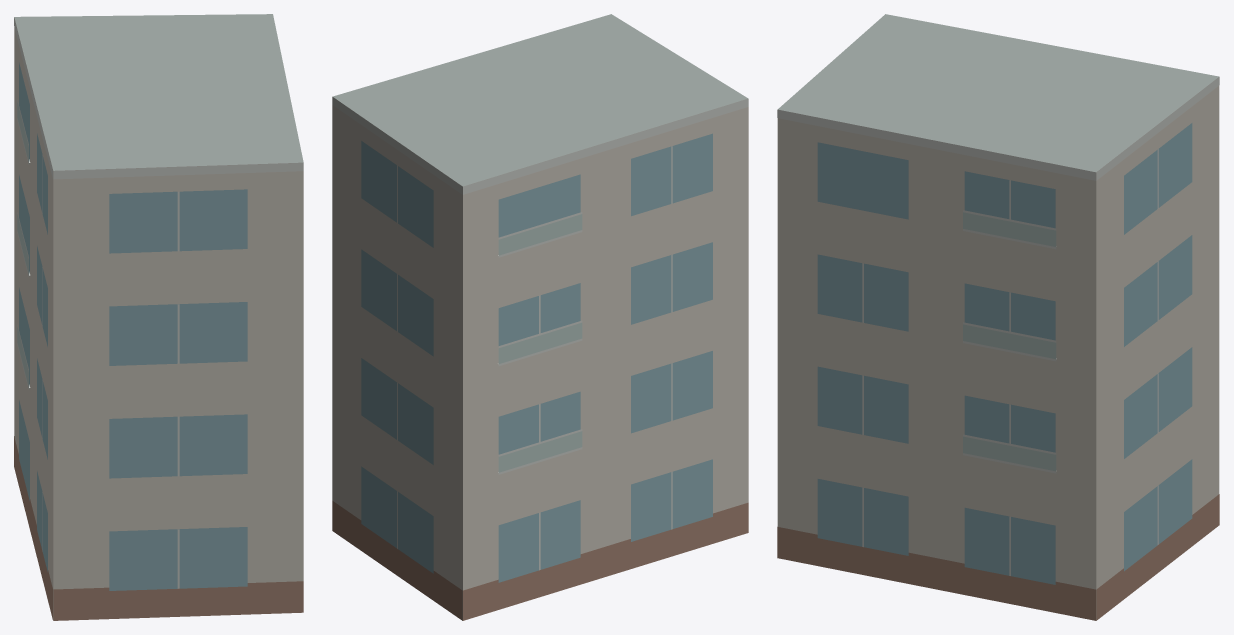
The model's file is survey-upis-32726260.glb.
The picture shows the model from 3 angles, left to right: view 1: azimuth 30°, elevation 25°; view 2: azimuth 150°, elevation 25°; view 3: azimuth 270°, elevation 25°; orthographic projection. The views are drawn at different scales.
Visible parts, largest first — view 1: survey-upis-32726260.tmp; view 2: survey-upis-32726260.tmp; view 3: survey-upis-32726260.tmp.
Boxes of the visible parts, left/top/right/bottom form: survey-upis-32726260.tmp: left=14, top=14, right=303, bottom=620; survey-upis-32726260.tmp: left=332, top=14, right=748, bottom=620; survey-upis-32726260.tmp: left=777, top=14, right=1219, bottom=620.
Size of the model in its own units: 9.62 by 12.7 by 11.35.
